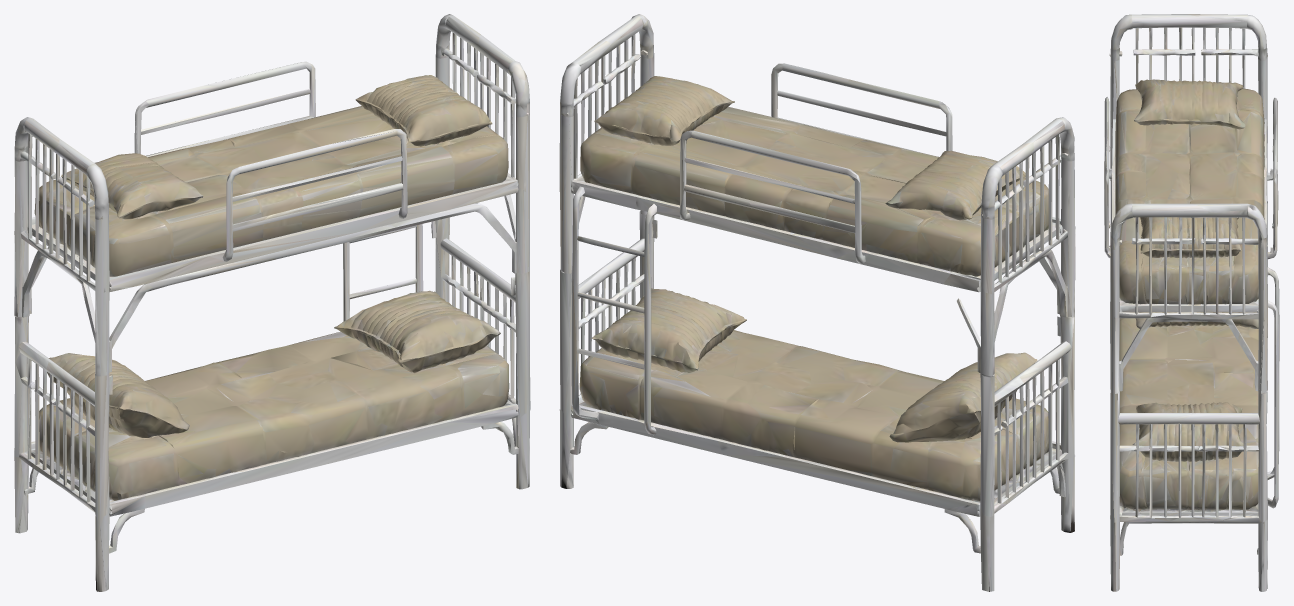
Rendered from mj-bunk-steel-3rd.glb.
3 renders of one model, left to right at view 1: azimuth 30°, elevation 25°; view 2: azimuth 150°, elevation 25°; view 3: azimuth 270°, elevation 25°, orthographic. The views are drawn at different scales.
Parts seen in each view (by area): view 1: mj-bunk-steel-3rd; view 2: mj-bunk-steel-3rd; view 3: mj-bunk-steel-3rd.
Boxes of the visible parts, x1=… form: mj-bunk-steel-3rd: x1=14, y1=14, x2=530, y2=591; mj-bunk-steel-3rd: x1=559, y1=14, x2=1075, y2=591; mj-bunk-steel-3rd: x1=1104, y1=14, x2=1279, y2=591.
Size of the model in its own units: 1.9 by 1.75 by 0.7204.
1 material, 1 textured.
